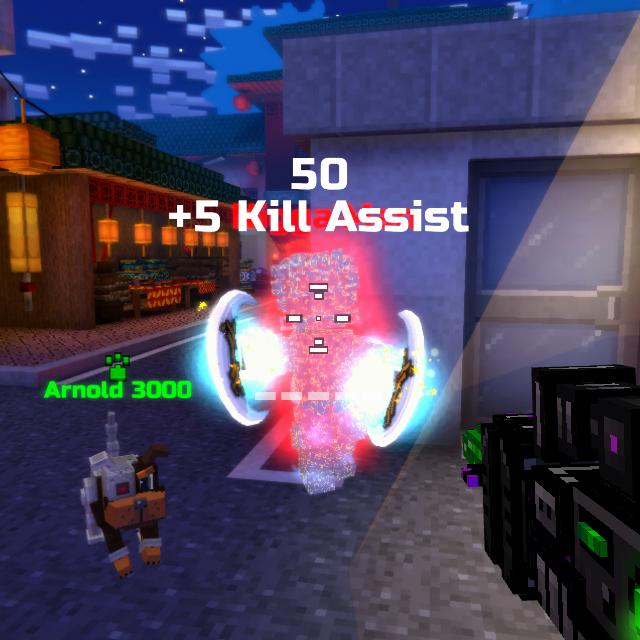Enemy: (240, 245, 393, 492)
